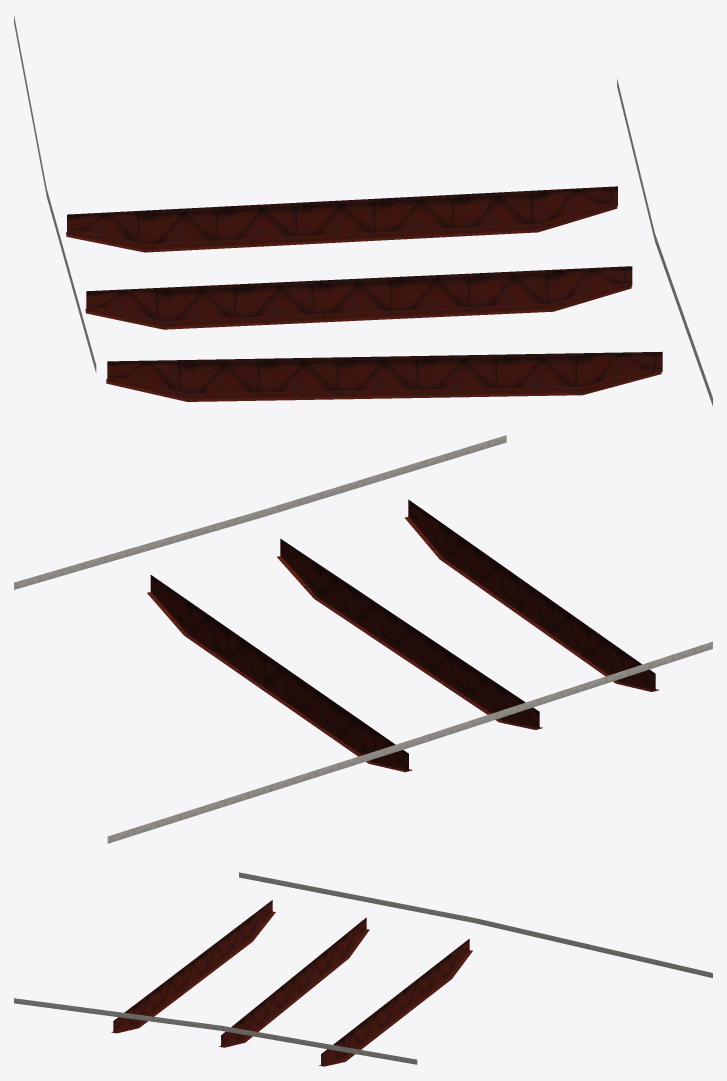
The model's file is cn_nbridegrails.obj.
3 views of the same model, one above another, from view 1: azimuth 30°, elevation 25°; view 2: azimuth 150°, elevation 25°; view 3: azimuth 270°, elevation 25° (orthographic). The views are drawn at different scales.
Visible parts, largest first — view 1: cn_nbridegrails; view 2: cn_nbridegrails; view 3: cn_nbridegrails.
Boxes of the visible parts, x1=… form: cn_nbridegrails: x1=14, y1=15, x2=712, y2=405; cn_nbridegrails: x1=14, y1=435, x2=712, y2=843; cn_nbridegrails: x1=14, y1=872, x2=712, y2=1066.
Bounding box in the file's own units: 48.51 × 5.71 × 73.14.
Materials: 2 (2 with a texture image).
